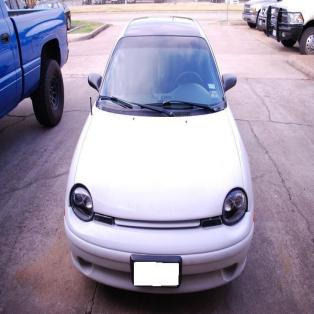Auto: (62, 10, 258, 298)
